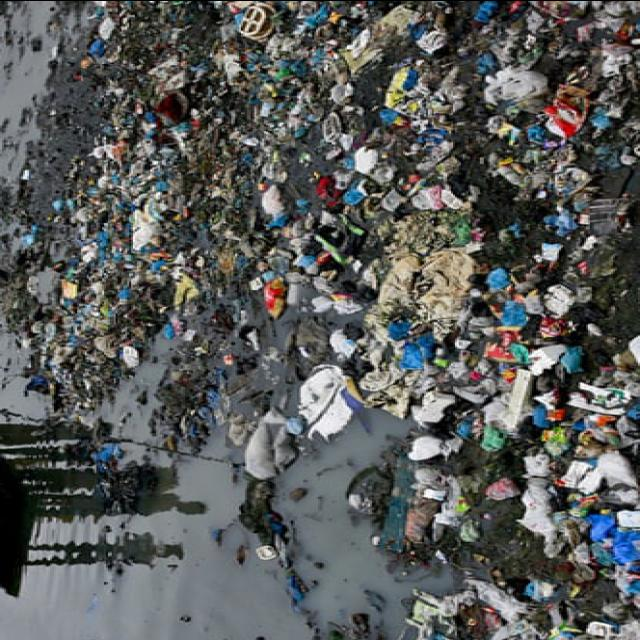-: (58, 0, 640, 269)
